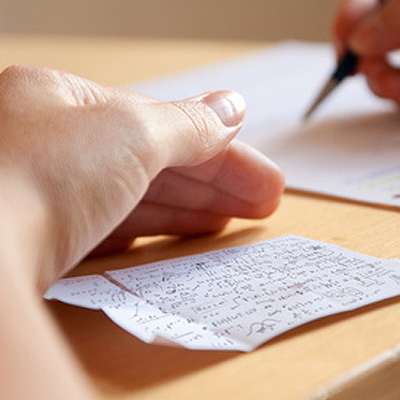Note: (36, 234, 400, 355)
